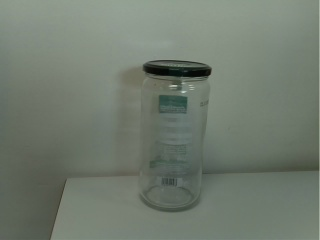pote cristal: (136, 55, 213, 212)
